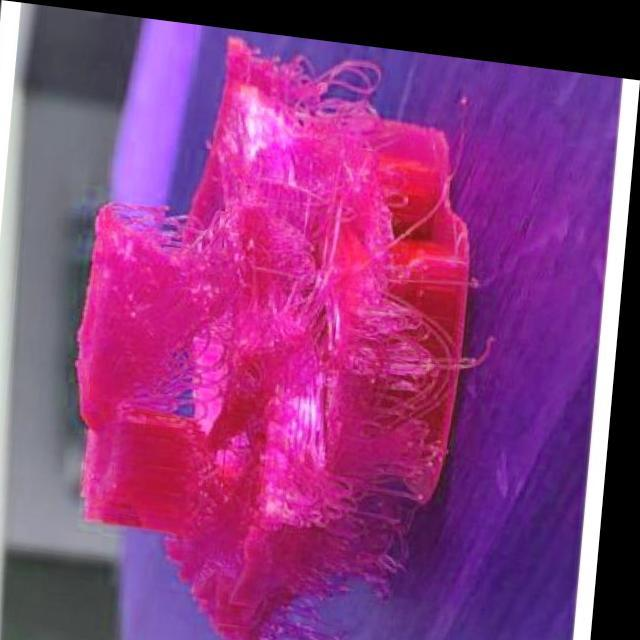spaghetti: (61, 191, 506, 554), (195, 23, 424, 215), (154, 517, 407, 640)
